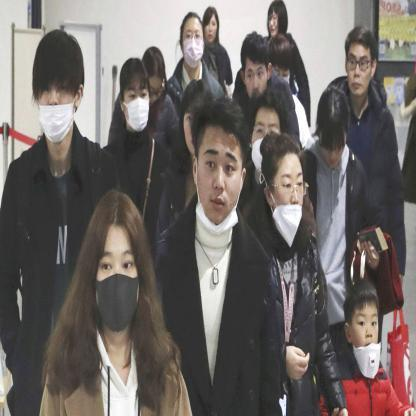with_mask: (86, 185, 150, 338), (29, 25, 90, 147), (259, 131, 307, 250), (119, 54, 154, 130), (178, 8, 207, 72)
without_mask: (188, 94, 253, 224), (341, 23, 381, 101), (343, 278, 383, 356), (317, 85, 350, 167), (237, 29, 271, 103), (141, 44, 169, 107), (267, 1, 291, 45), (202, 1, 224, 47)
